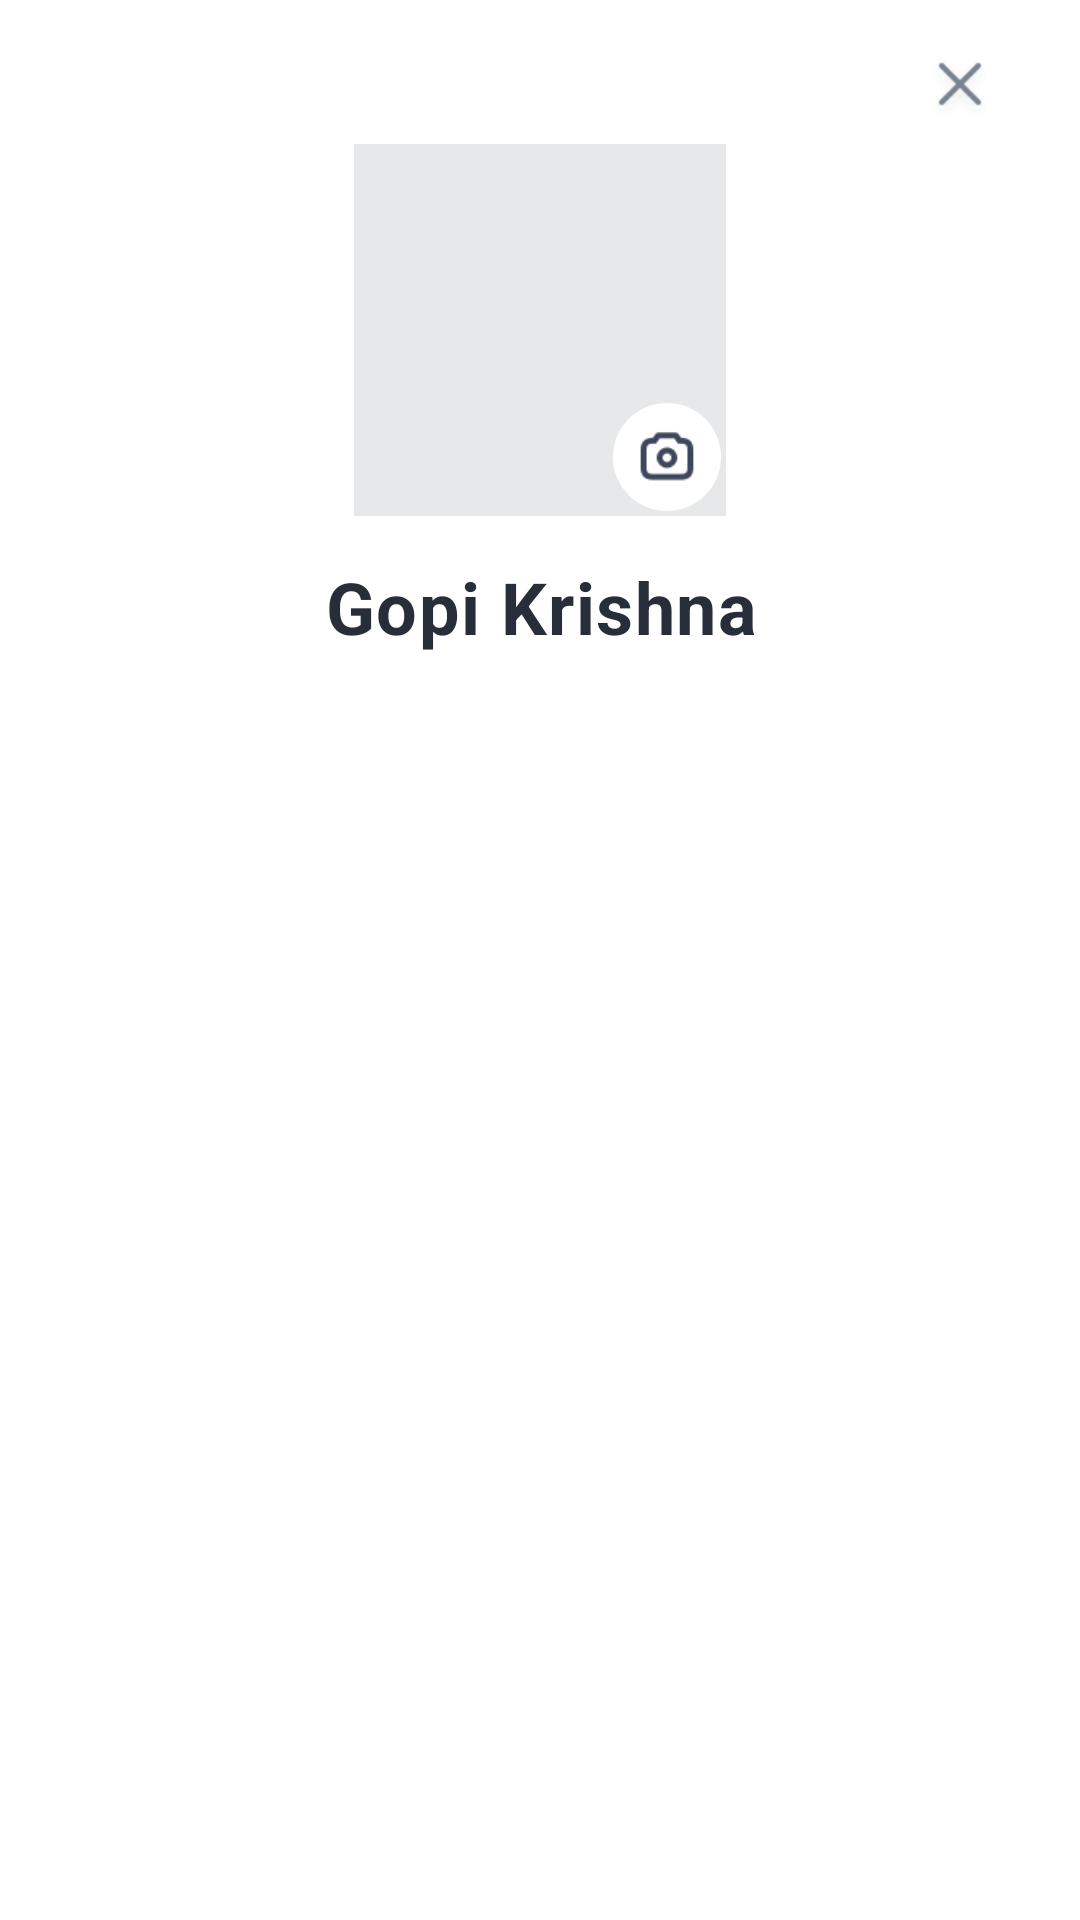

Icon bounding boxes for this 1080w x 1920h phone screenshot, format bbox(x1, y1, x2, y2):
camera: bbox(640, 432, 694, 481)
